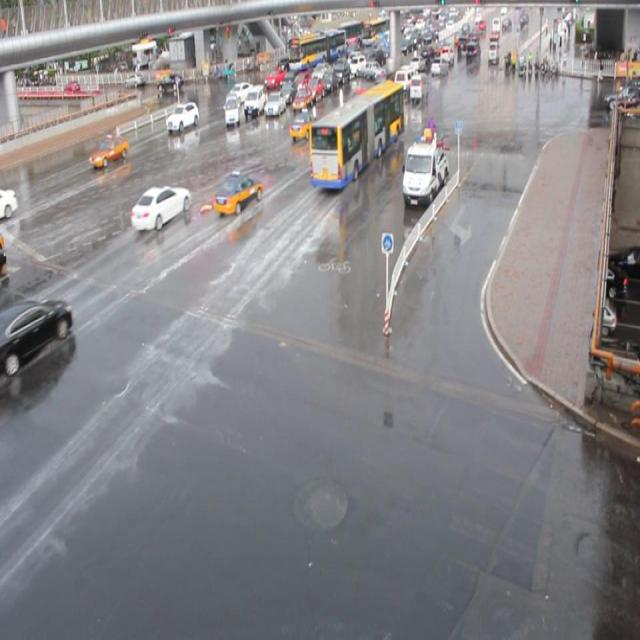bus: (402, 138, 449, 206)
car: (0, 297, 74, 376), (131, 182, 192, 230), (212, 170, 263, 214), (89, 134, 129, 167), (166, 100, 199, 132), (288, 107, 322, 138), (332, 94, 360, 128), (307, 116, 334, 149), (353, 86, 377, 118), (0, 186, 18, 224), (227, 81, 253, 104), (291, 88, 313, 114), (265, 92, 286, 118), (305, 77, 324, 102), (279, 80, 298, 104), (291, 72, 311, 94)
truck: (246, 86, 268, 117), (409, 72, 428, 104), (394, 67, 416, 94), (223, 94, 240, 128)
van: (308, 80, 405, 188)
